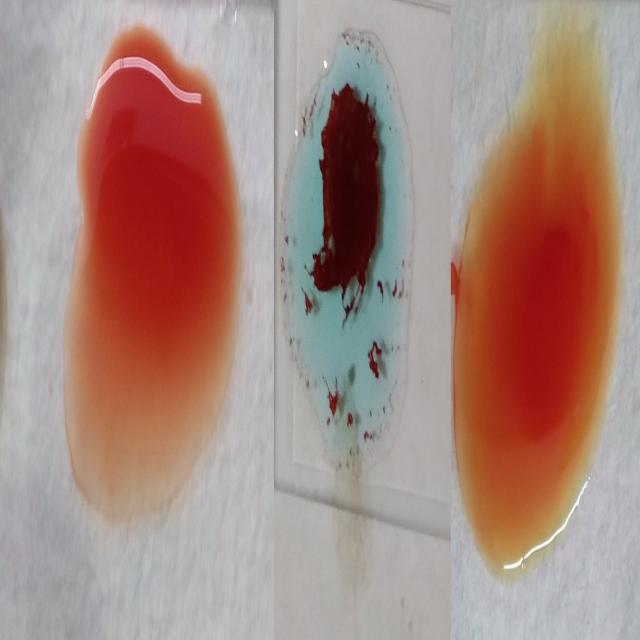A: (286, 32, 422, 467)
